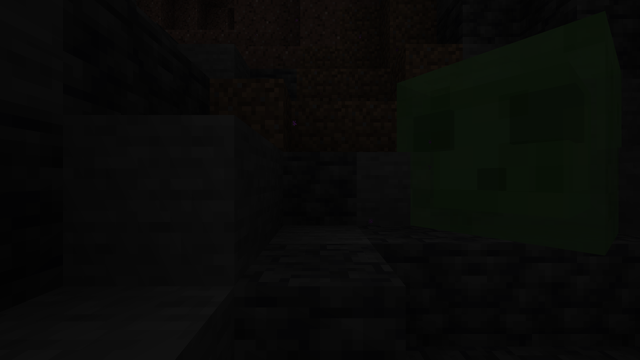slimes: (402, 27, 634, 244)
